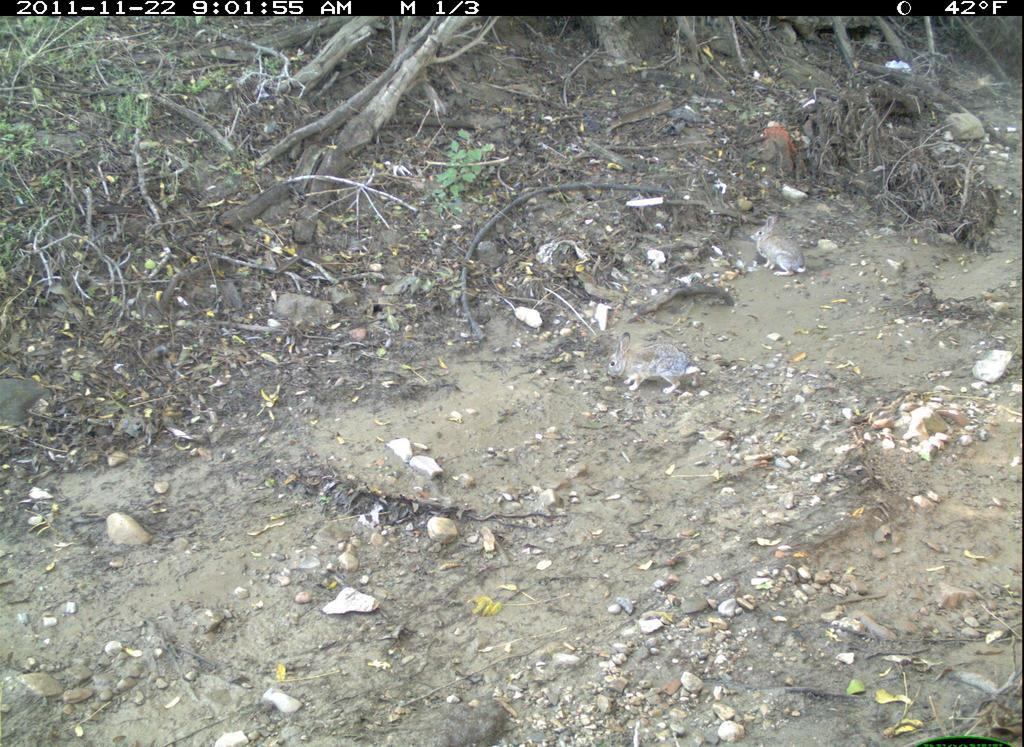rabbit: (602, 333, 710, 402), (749, 212, 812, 277)
